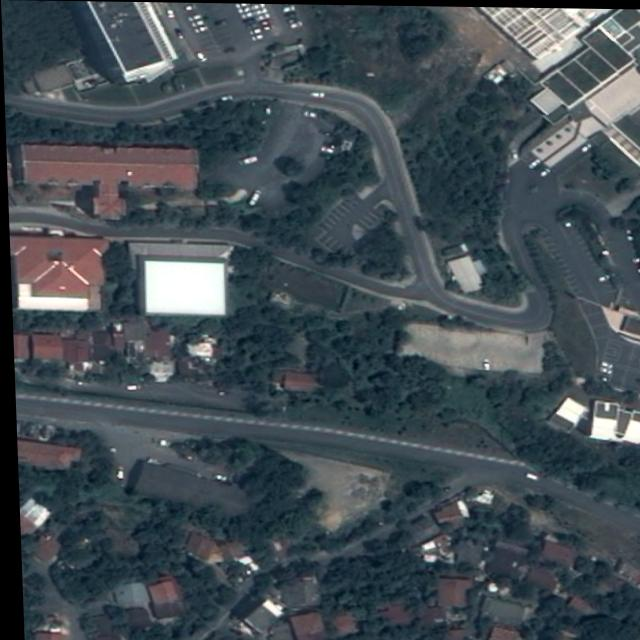Batiment: (478, 6, 640, 166), (19, 146, 195, 190), (126, 241, 229, 315), (9, 236, 106, 310), (86, 2, 175, 81), (543, 394, 640, 442), (10, 333, 85, 361), (13, 439, 76, 469), (140, 575, 178, 619), (433, 576, 468, 606), (284, 611, 320, 640), (276, 369, 316, 391), (326, 614, 352, 636)
